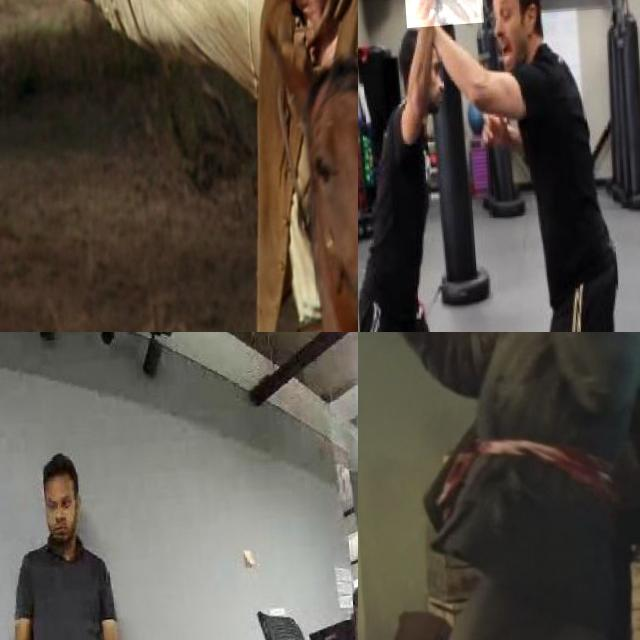-: (401, 0, 482, 39)
gun-knife-thesis - v11 Yolov5 augmented: (0, 0, 79, 71), (358, 332, 420, 387)
